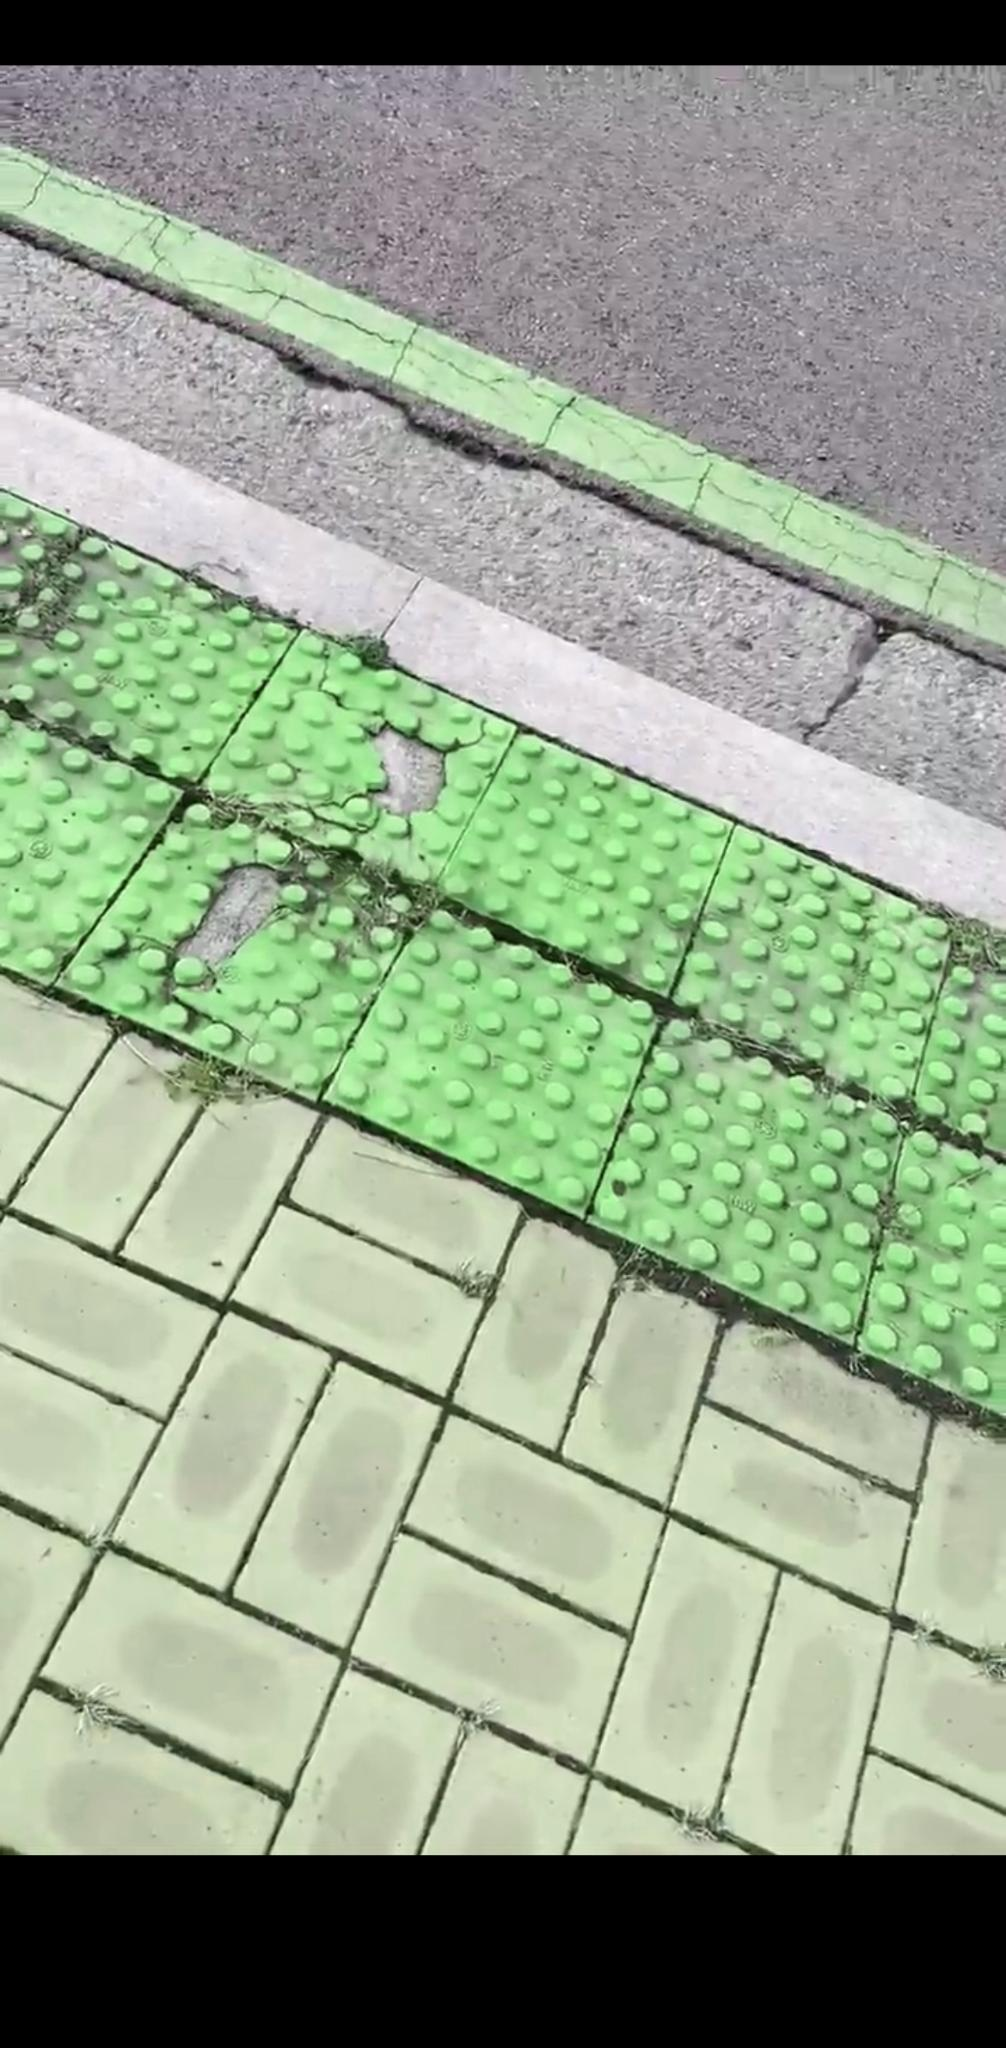Stop block broken: (60, 795, 423, 1098), (196, 631, 517, 889)
Stop block normal: (327, 899, 664, 1215), (432, 731, 733, 997)
